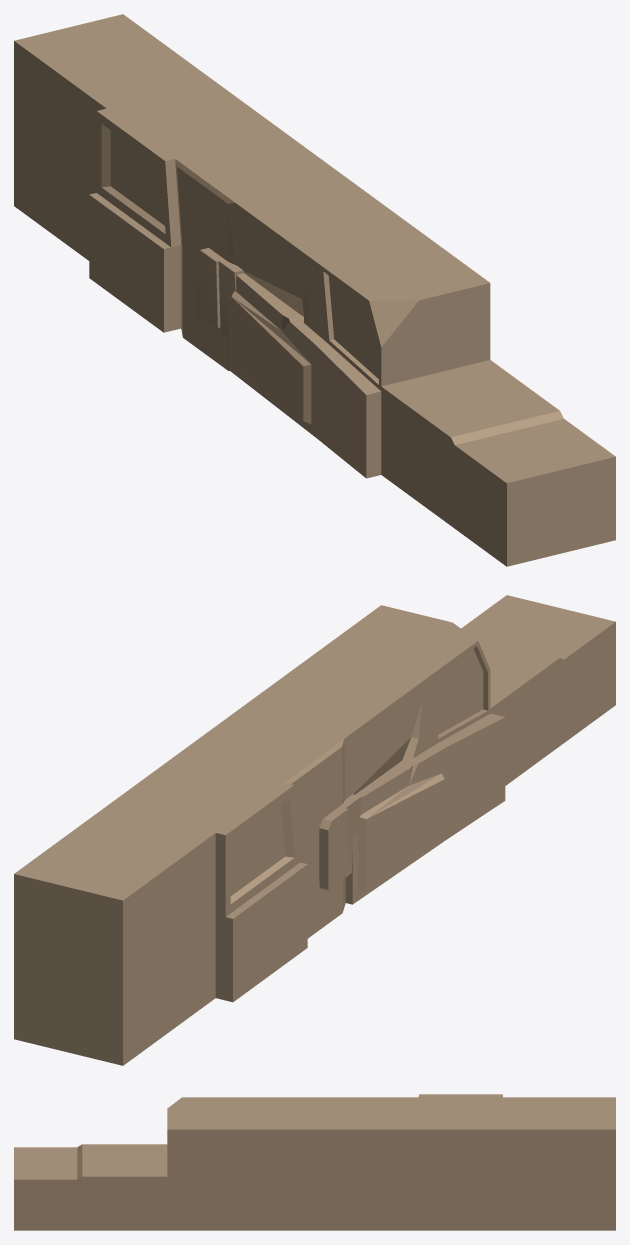
Rendered from ston floor1.FBX.
3 views of the same model, one above another, from view 1: azimuth 30°, elevation 25°; view 2: azimuth 150°, elevation 25°; view 3: azimuth 270°, elevation 25° (orthographic). The views are drawn at different scales.
Visible parts, largest first — view 1: Stone floor; view 2: Stone floor; view 3: Stone floor.
Boxes of the visible parts, bbox=[...] form: Stone floor: bbox=[14, 14, 615, 566]; Stone floor: bbox=[14, 595, 615, 1065]; Stone floor: bbox=[14, 1094, 615, 1230].
Bounding box in the file's own units: 10.87 × 14.02 × 73.28.
